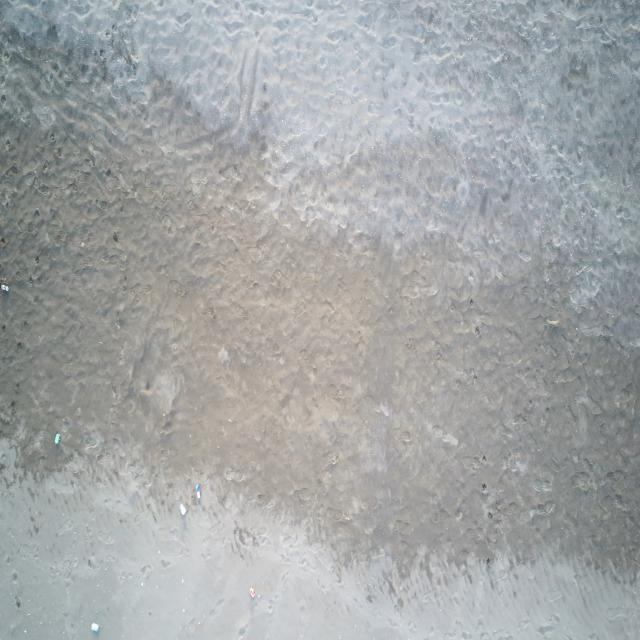Garbage: (0, 281, 8, 292), (195, 483, 200, 500), (547, 319, 559, 326), (91, 622, 99, 632), (248, 587, 256, 597), (180, 503, 186, 515), (54, 432, 60, 444)
